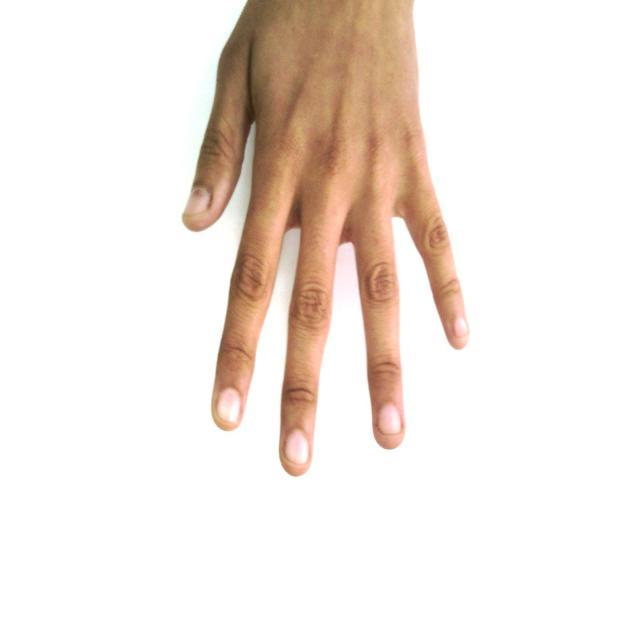Fingernail: (286, 430, 308, 465), (219, 389, 240, 423), (185, 188, 209, 215), (379, 404, 401, 433), (455, 317, 468, 340)
